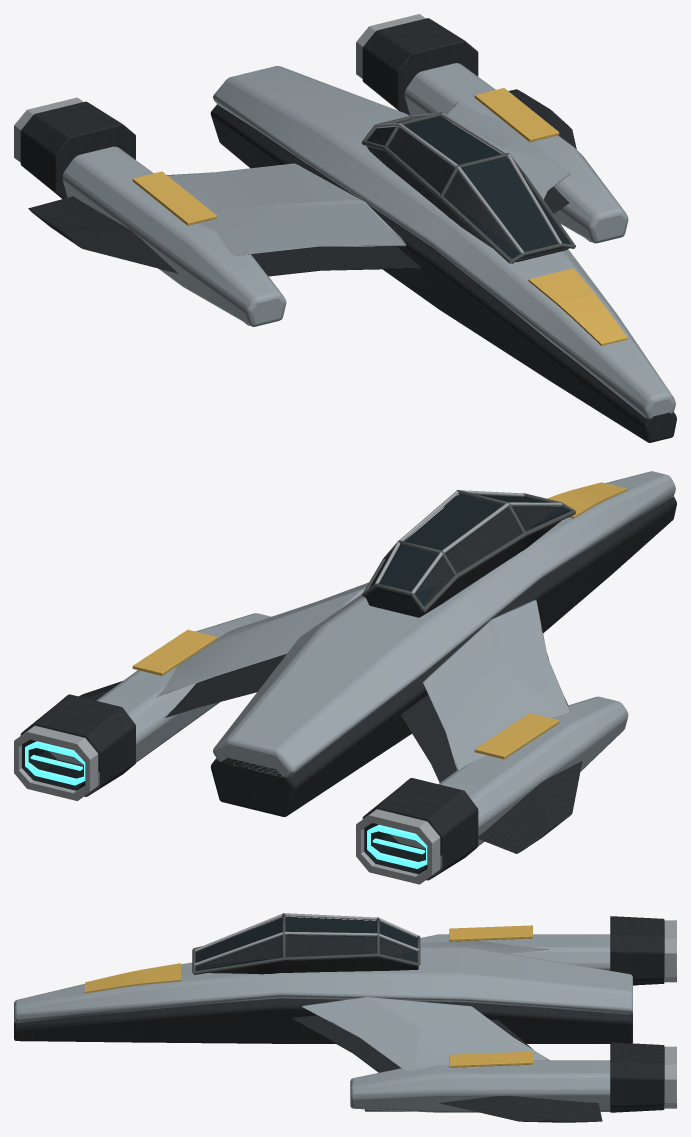
File: gannet.glb
3 renders of one model, top to bottom at view 1: azimuth 30°, elevation 25°; view 2: azimuth 150°, elevation 25°; view 3: azimuth 270°, elevation 25°, orthographic. The views are drawn at different scales.
Visible parts, largest first — view 1: gannet_Ceramic_Geometry, gannet_carbon_Geometry, gannet_glass_Geometry, gannet_accent_Geometry, gannet_metal_Geometry, gannet_edge_Geometry; view 2: gannet_Ceramic_Geometry, gannet_carbon_Geometry, gannet_metal_Geometry, gannet_glass_Geometry, gannet_accent_Geometry, gannet_vent_Geometry, gannet_Ion_Geometry, gannet_edge_Geometry; view 3: gannet_Ceramic_Geometry, gannet_carbon_Geometry, gannet_glass_Geometry, gannet_accent_Geometry, gannet_metal_Geometry, gannet_edge_Geometry.
Boxes of the visible parts, x1,y1,x2,y2 form: gannet_Ceramic_Geometry: [62, 63, 675, 418]; gannet_carbon_Geometry: [20, 18, 676, 442]; gannet_glass_Geometry: [367, 116, 569, 258]; gannet_accent_Geometry: [132, 88, 627, 345]; gannet_metal_Geometry: [14, 14, 562, 253]; gannet_edge_Geometry: [244, 112, 591, 325]; gannet_Ceramic_Geometry: [48, 471, 675, 868]; gannet_carbon_Geometry: [20, 496, 676, 880]; gannet_metal_Geometry: [14, 490, 562, 884]; gannet_glass_Geometry: [367, 494, 570, 616]; gannet_accent_Geometry: [132, 482, 627, 759]; gannet_vent_Geometry: [22, 728, 442, 874]; gannet_Ion_Geometry: [25, 741, 427, 868]; gannet_edge_Geometry: [362, 490, 575, 611]; gannet_Ceramic_Geometry: [14, 934, 636, 1112]; gannet_carbon_Geometry: [14, 916, 664, 1122]; gannet_glass_Geometry: [195, 916, 416, 970]; gannet_accent_Geometry: [85, 925, 532, 1067]; gannet_metal_Geometry: [194, 913, 676, 1108]; gannet_edge_Geometry: [192, 913, 420, 1111].
Bounding box in the file's own units: 4.12 × 1.3 × 6.35.
Materials: 9 (3 with a texture image).
